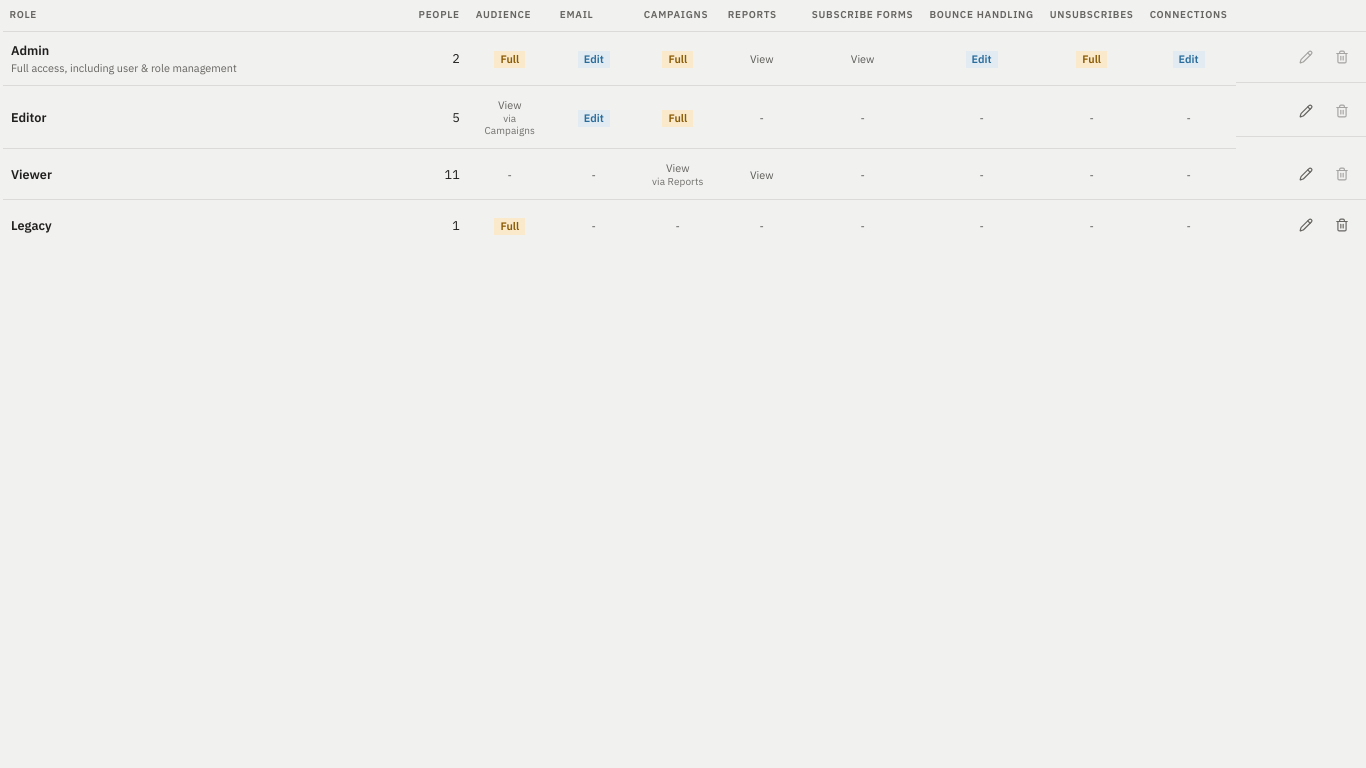
Test: the role editor › implied access updates in the same gesture that causes it
The width and height of the screenshot is (1366, 768).
expect the text "Viewer" is shown: met, box x1=11 y1=166 x2=52 y2=182
Click the button named "Edit Viewer": (1306,174) x1=1290 y1=158 x2=1322 y2=190
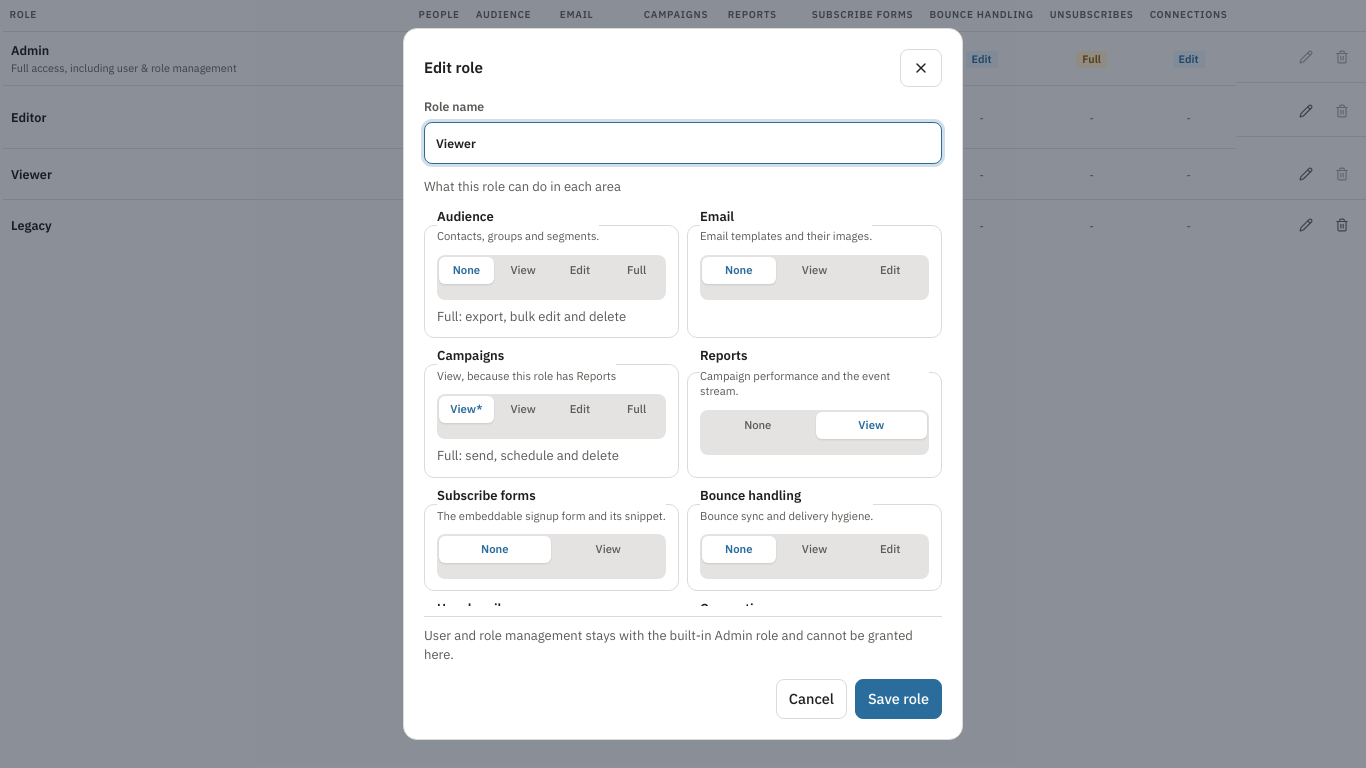
expect the element "Audience" does not show "because this role has": met, box x1=424 y1=207 x2=679 y2=338
Click the radio button labelled "Edit" in the row of "View*": (580,409) x1=570 y1=401 x2=590 y2=416
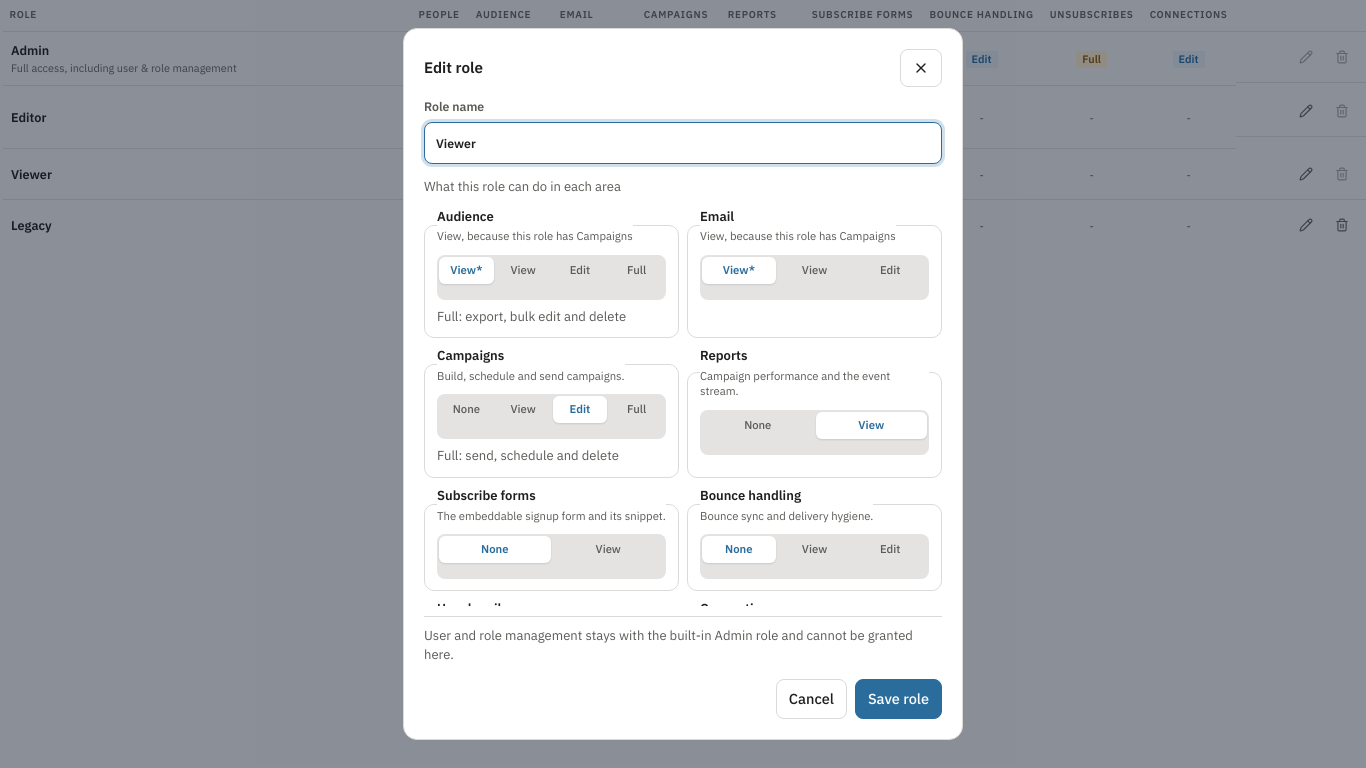
expect the element "Audience" shows "because this role has Campaigns": met, box x1=437 y1=228 x2=633 y2=243
